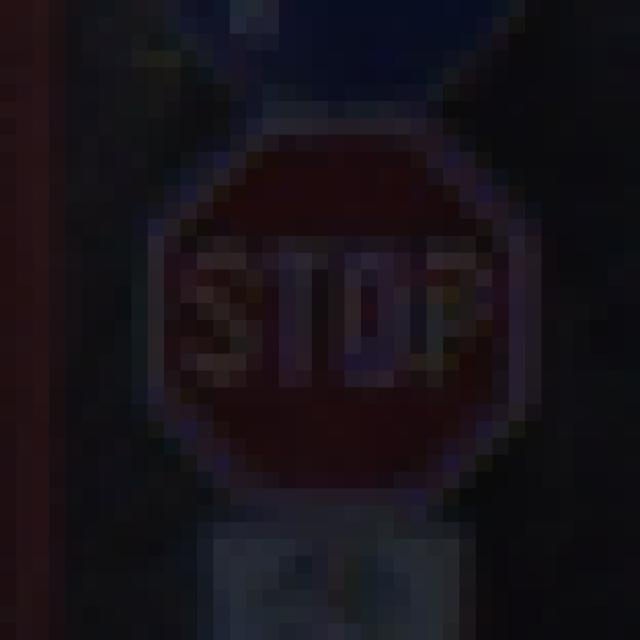STOP: (99, 85, 559, 557)
